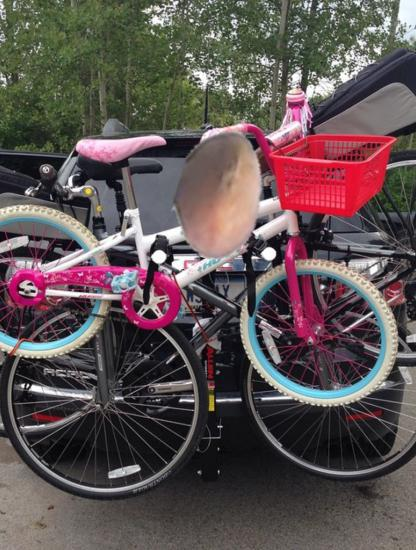Hazelnut: (155, 129, 286, 260)
